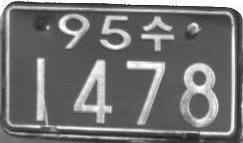1: (24, 56, 59, 120)
4: (71, 59, 112, 124)
5: (99, 14, 131, 50)
7: (125, 58, 166, 125)
8: (178, 62, 219, 129)
9: (57, 12, 90, 49)
수: (141, 14, 174, 51)
